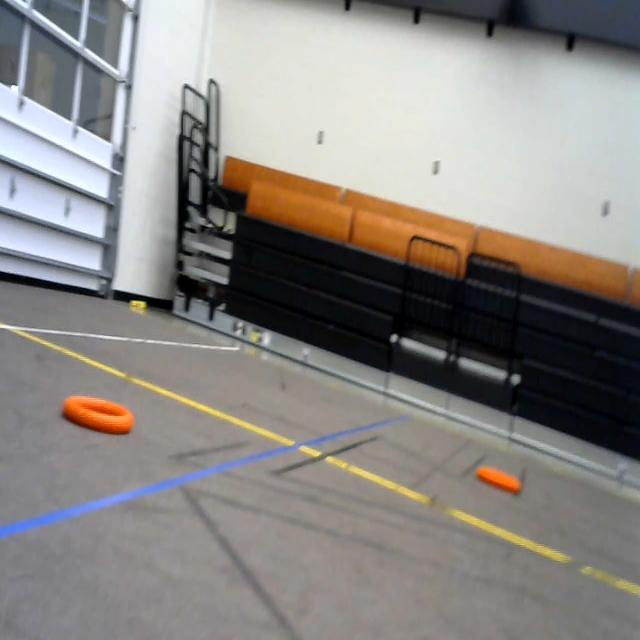note: (58, 385, 143, 445), (475, 459, 529, 503)
